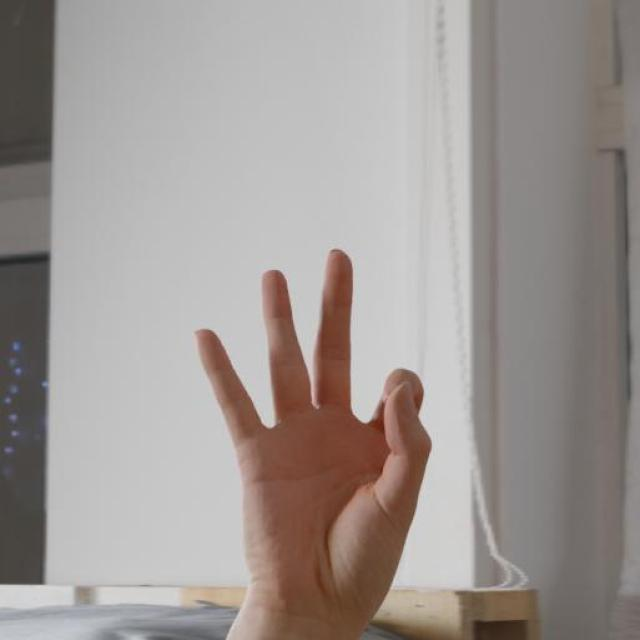F: (192, 238, 438, 632)
